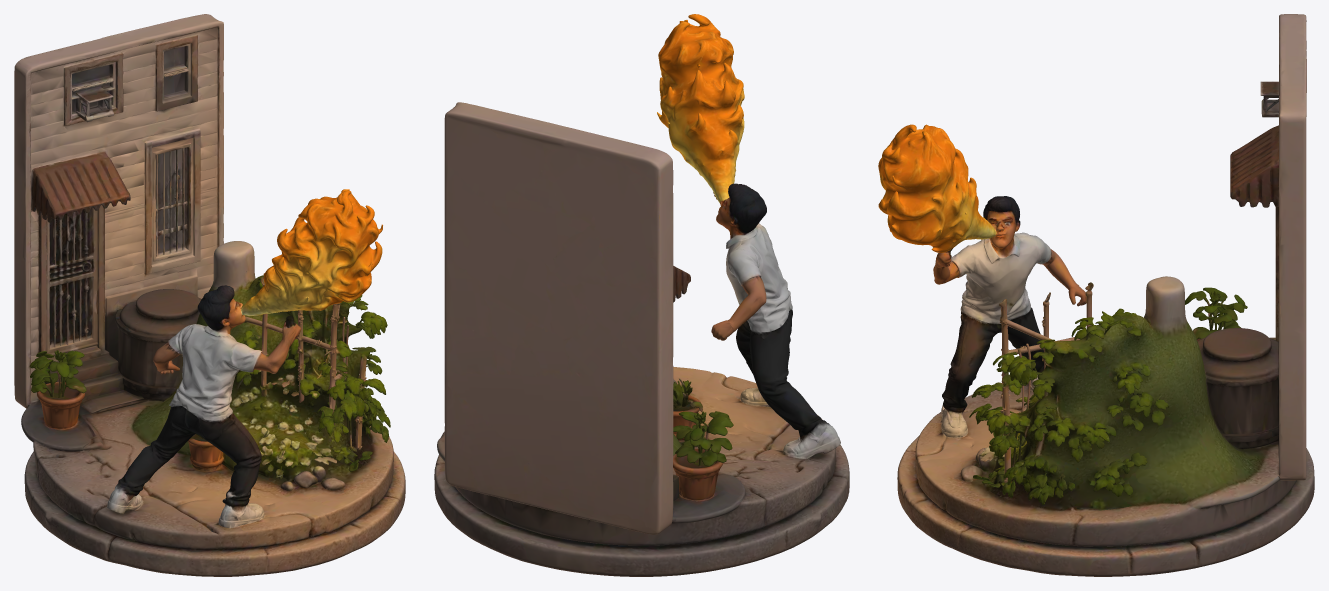
Rendered from fire-breathing-person.optimized.glb.
3 renders of one model, left to right at view 1: azimuth 30°, elevation 25°; view 2: azimuth 150°, elevation 25°; view 3: azimuth 270°, elevation 25°, orthographic. The views are drawn at different scales.
Visible parts, largest first — view 1: tripo_node_40b6deb0-6c4f-4a26-8b0c-6a609257ae13; view 2: tripo_node_40b6deb0-6c4f-4a26-8b0c-6a609257ae13; view 3: tripo_node_40b6deb0-6c4f-4a26-8b0c-6a609257ae13.
Part boxes in pixels (x1,y1,x2,y2): tripo_node_40b6deb0-6c4f-4a26-8b0c-6a609257ae13: [14, 14, 405, 576]; tripo_node_40b6deb0-6c4f-4a26-8b0c-6a609257ae13: [434, 14, 849, 576]; tripo_node_40b6deb0-6c4f-4a26-8b0c-6a609257ae13: [878, 14, 1314, 576].
Bounding box in the file's own units: 0.852 × 0.9793 × 0.905.
Materials: 1 (1 with a texture image).
